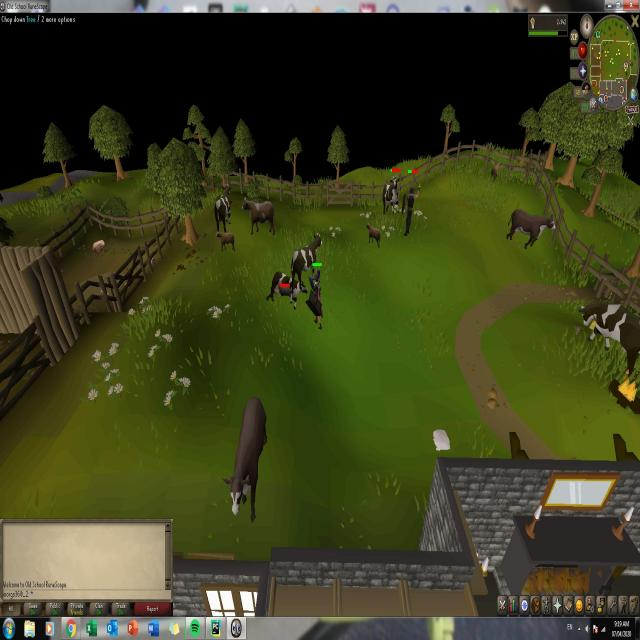cow: (223, 392, 268, 522), (507, 208, 556, 252), (241, 195, 275, 238), (269, 270, 306, 308), (293, 229, 322, 274), (213, 184, 231, 229), (381, 176, 399, 218), (214, 229, 235, 252), (365, 222, 382, 248)
player: (310, 271, 324, 328)
